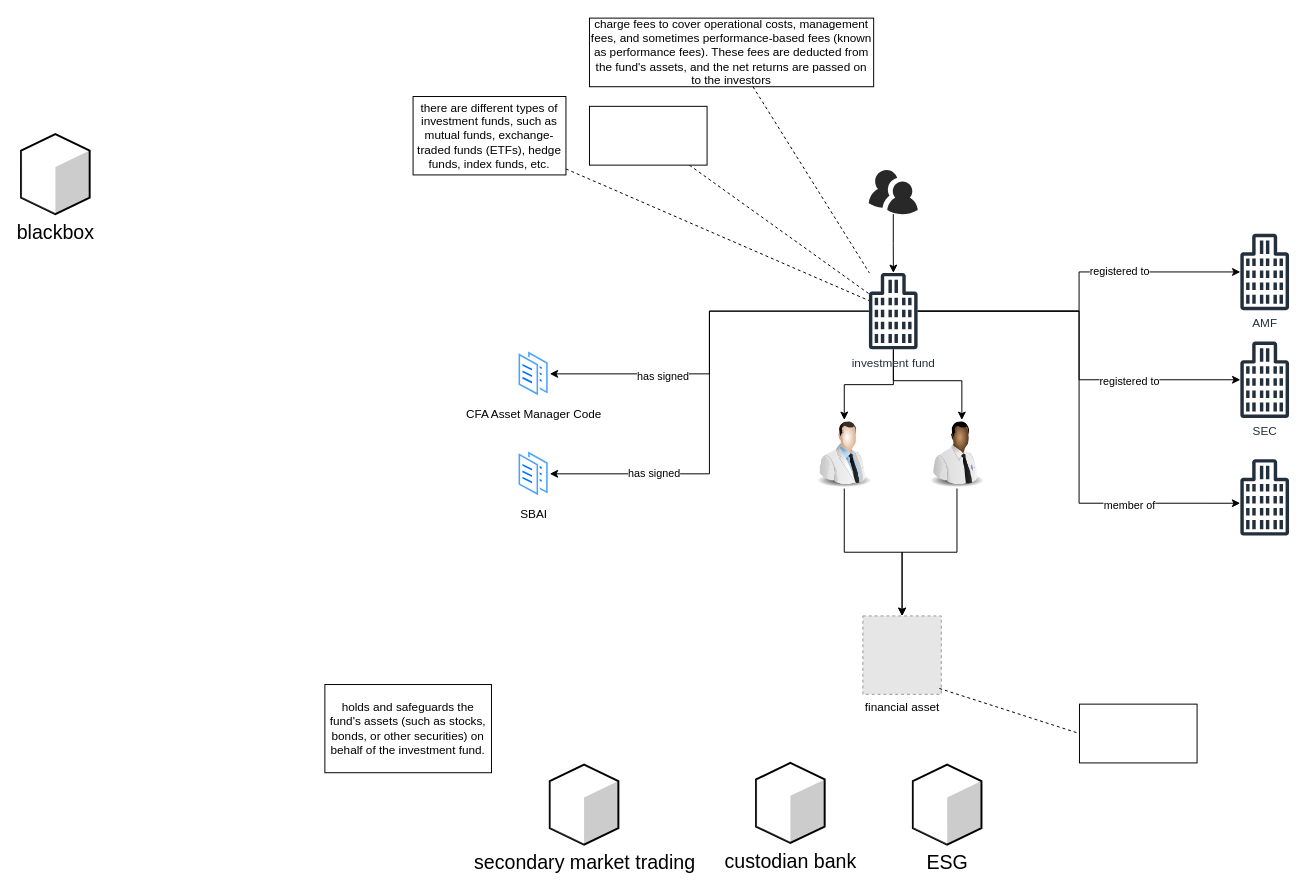
The diagram is 1306 pixels wide and 892 high, and some of its shapes have lost their labels. Grey dashed boxes stand in for pictures. The centre of each missing label's shape, as x and y in pixels:
AIMA: the point at 1264,497
analyst: the point at 956,453
define investment strategy, risk profile, and objectives of the fund: the point at 647,135
investors: the point at 892,192
portfolio manager: the point at 843,453
stocks, bonds, real estate, commodities, or other securities: the point at 1137,733
